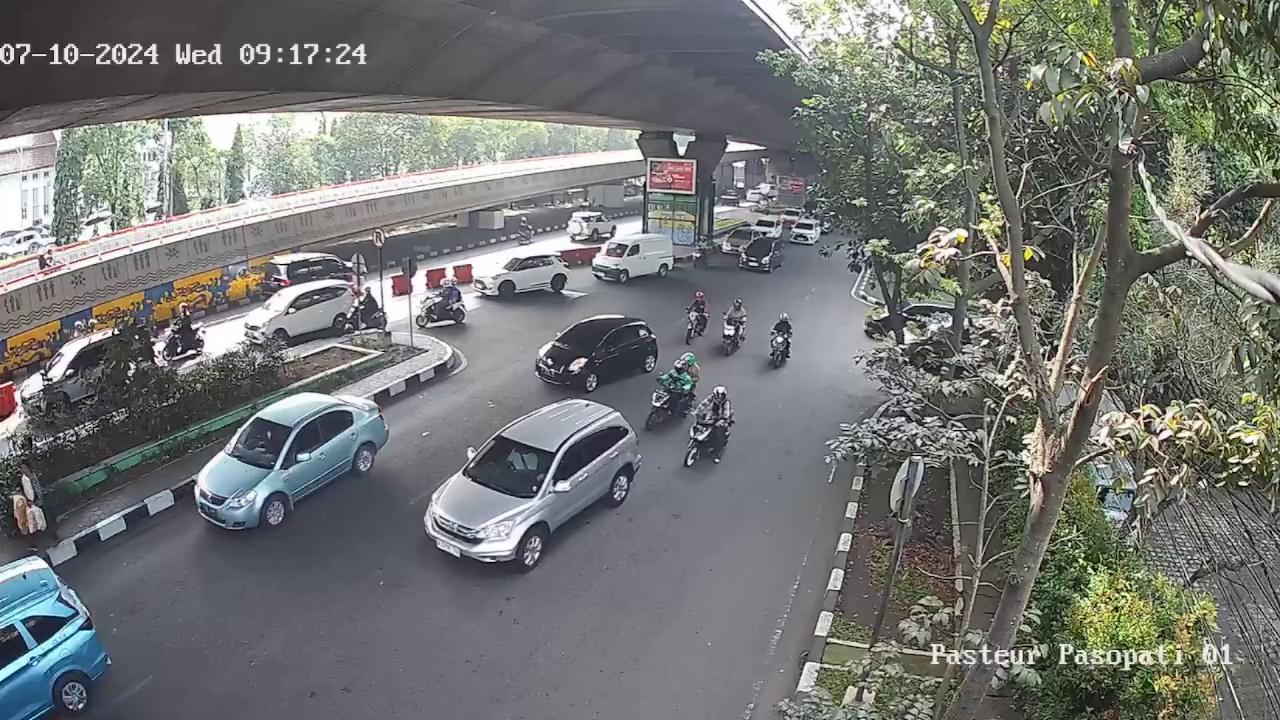pakai: (503, 445, 538, 475)
windshield: (464, 431, 557, 493), (226, 420, 291, 465), (560, 320, 606, 355)
